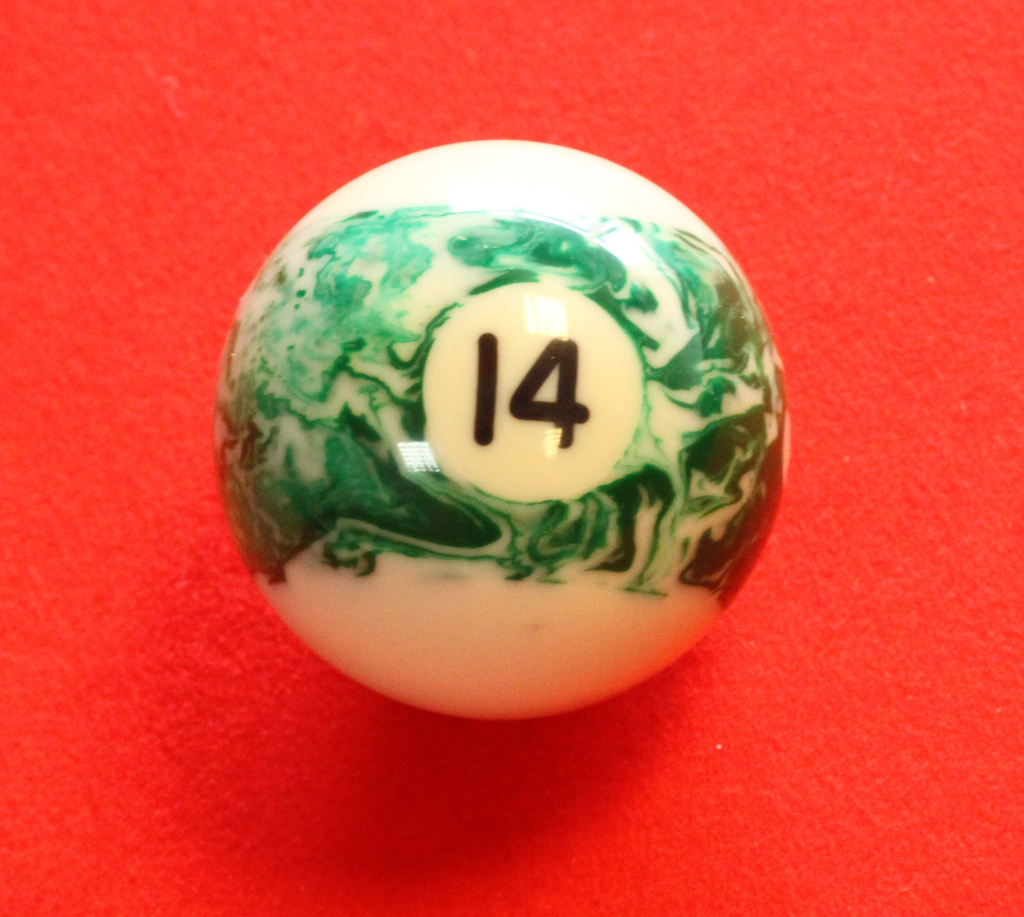Ball: (214, 146, 788, 716)
